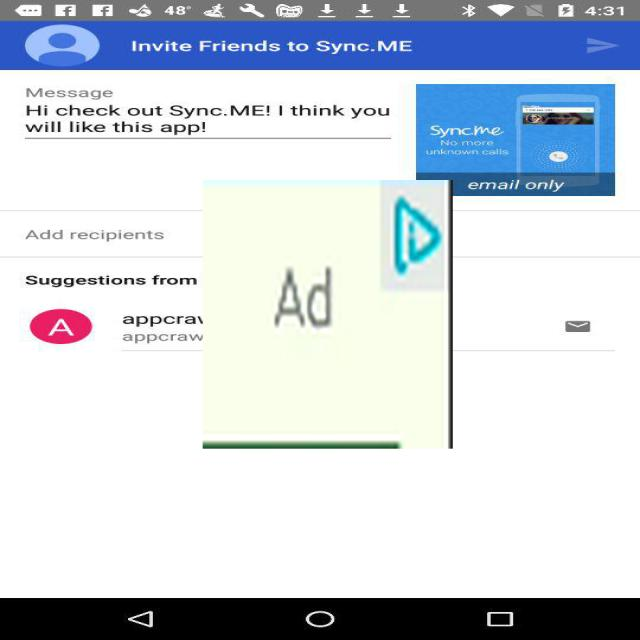sneaking: (202, 180, 452, 449)
